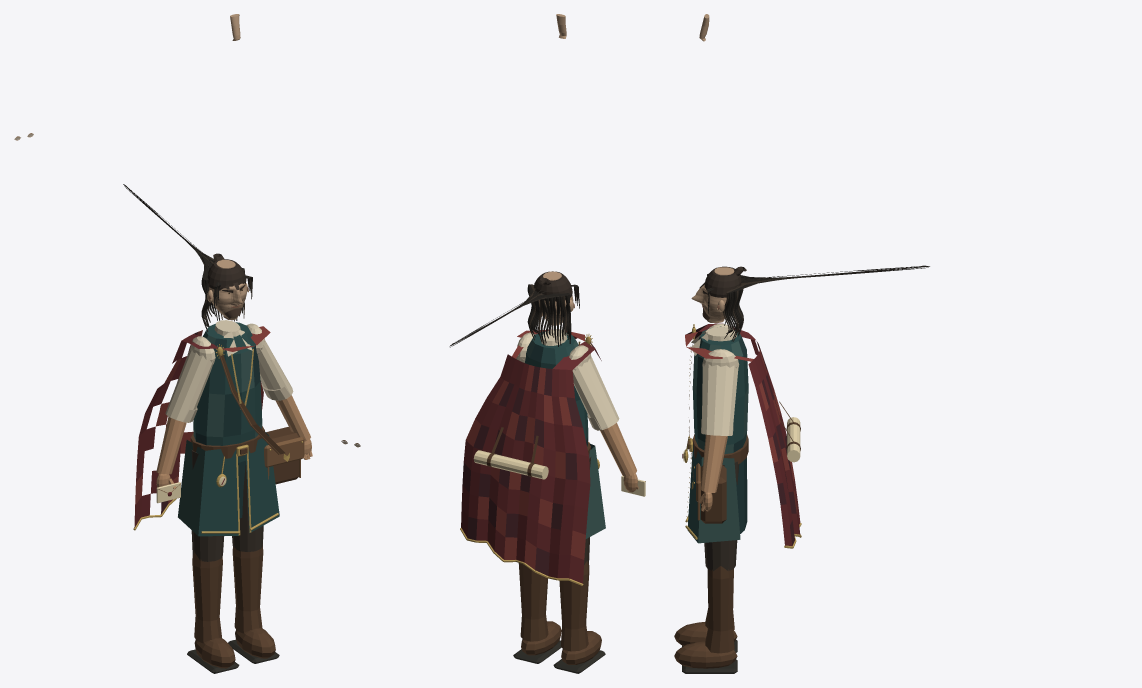
Rendered from courier.glb.
3 renders of one model, left to right at view 1: azimuth 30°, elevation 25°; view 2: azimuth 150°, elevation 25°; view 3: azimuth 270°, elevation 25°, orthographic.
Parts seen in each view (by area): view 1: Waistcoat, Split_coat_R, Cloak_folds, Boot_shaft_R, Boot_shaft_L, Split_coat_L, Linen_sleeve_R, Forearm_R, Trouser_thigh_L, Linen_sleeve_L, Boot_toe_L, Boot_toe_R (+8 smaller); view 2: Cloak_folds, Boot_shaft_R, Boot_shaft_L, Linen_sleeve_R, Waistcoat, Split_coat_R, Map_roll, Forearm_R, Boot_toe_L, Boot_toe_R, Hair_target_top; view 3: Cloak_folds, Waistcoat, Linen_sleeve_L, Split_coat_L, Boot_shaft_L, Boot_toe_L, Forearm_L, Trouser_thigh_L, Messenger_satchel, Face, Hair_target_top, Back_coat.
Boxes of the visible parts, left/top/right/bottom form: Waistcoat: left=193, top=322, right=262, bottom=462; Split_coat_R: left=178, top=440, right=238, bottom=536; Cloak_folds: left=134, top=326, right=270, bottom=527; Boot_shaft_R: left=192, top=552, right=222, bottom=643; Boot_shaft_L: left=232, top=544, right=263, bottom=633; Split_coat_L: left=245, top=432, right=279, bottom=533; Linen_sleeve_R: left=165, top=348, right=213, bottom=422; Forearm_R: left=156, top=416, right=186, bottom=474; Trouser_thigh_L: left=232, top=462, right=263, bottom=551; Linen_sleeve_L: left=257, top=340, right=293, bottom=400; Boot_toe_L: left=235, top=628, right=275, bottom=658; Boot_toe_R: left=194, top=638, right=235, bottom=668; Cloak_folds: left=461, top=329, right=601, bottom=583; Boot_shaft_R: left=559, top=561, right=589, bottom=651; Boot_shaft_L: left=518, top=563, right=548, bottom=641; Linen_sleeve_R: left=572, top=356, right=619, bottom=430; Waistcoat: left=525, top=331, right=588, bottom=446; Split_coat_R: left=585, top=443, right=605, bottom=538; Map_roll: left=473, top=450, right=548, bottom=479; Forearm_R: left=600, top=422, right=636, bottom=476; Boot_toe_L: left=521, top=621, right=561, bottom=655; Boot_toe_R: left=561, top=631, right=601, bottom=664; Hair_target_top: left=534, top=271, right=572, bottom=301; Cloak_folds: left=685, top=323, right=800, bottom=545; Waistcoat: left=692, top=326, right=748, bottom=454; Linen_sleeve_L: left=702, top=363, right=738, bottom=435; Split_coat_L: left=687, top=444, right=740, bottom=543; Boot_shaft_L: left=705, top=566, right=734, bottom=653; Boot_toe_L: left=674, top=641, right=737, bottom=668; Forearm_L: left=700, top=434, right=727, bottom=492; Trouser_thigh_L: left=704, top=461, right=739, bottom=571; Messenger_satchel: left=700, top=464, right=726, bottom=523; Face: left=691, top=267, right=734, bottom=323; Hair_target_top: left=704, top=266, right=741, bottom=297; Back_coat: left=736, top=457, right=747, bottom=533.
Bounding box in the file's own units: 0.7395 × 2.87 × 1.83.
